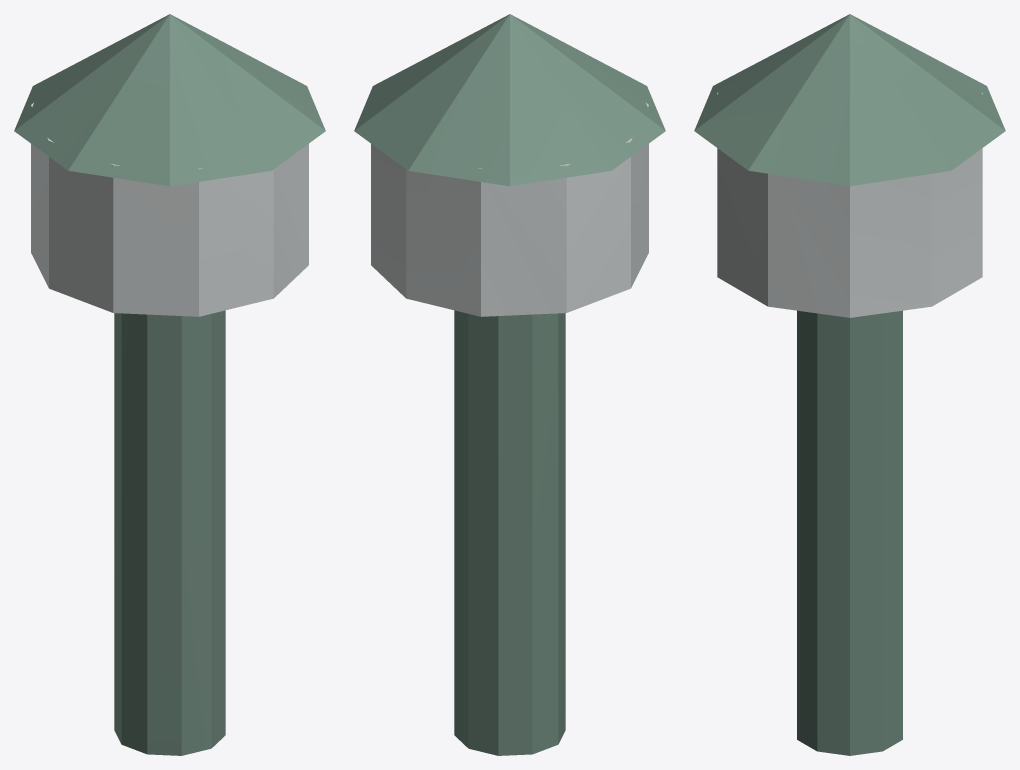
Rendered from lighthouse-02.glb.
3 views of the same model, side by side, from view 1: azimuth 30°, elevation 25°; view 2: azimuth 150°, elevation 25°; view 3: azimuth 270°, elevation 25° (orthographic).
Visible parts, largest first — view 1: world; view 2: world; view 3: world.
Part boxes in pixels (x1=…): world: x1=14, y1=14, x2=325, y2=755; world: x1=354, y1=14, x2=665, y2=755; world: x1=694, y1=14, x2=1005, y2=755.
Size of the model in its own units: 0.6595 by 1.7 by 0.6697.
